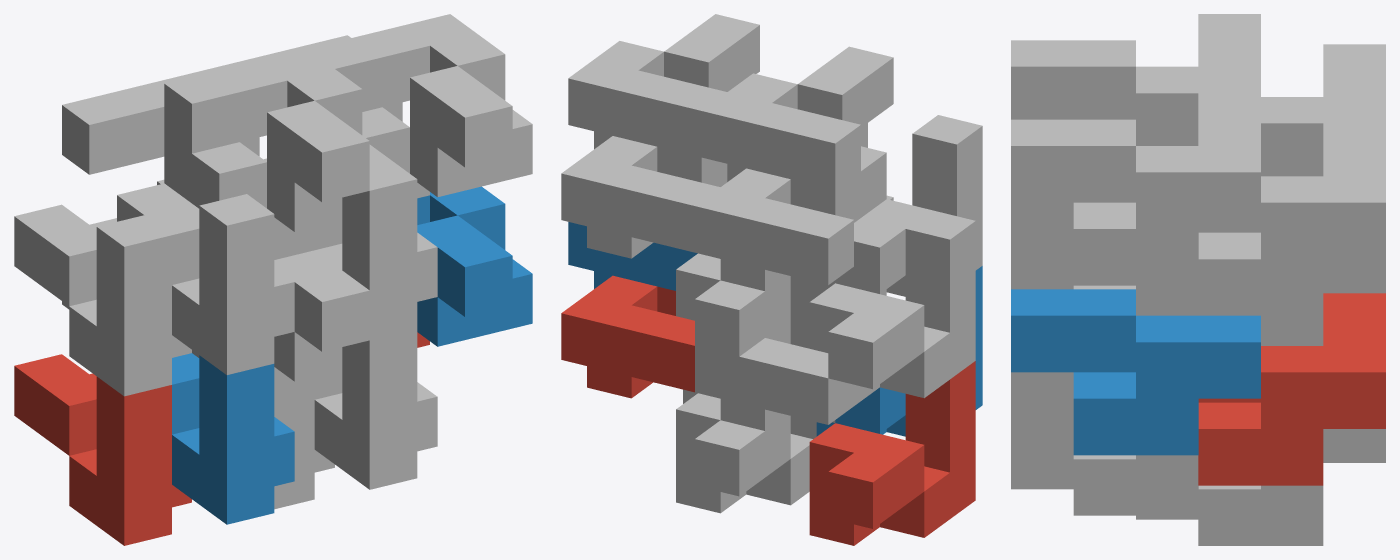
Rendered from tiling.obj.
The picture shows the model from 3 angles, left to right: view 1: azimuth 30°, elevation 25°; view 2: azimuth 150°, elevation 25°; view 3: azimuth 270°, elevation 25°; orthographic projection. The views are drawn at different scales.
Parts seen in each view (by area): view 1: copy_2_domain_4, copy_2_domain_8, copy_1_domain_3, copy_1_domain_1, copy_1_domain_4, copy_1_domain_2, copy_1_domain_6, copy_2_domain_6, copy_2_domain_3, copy_1_domain_8, copy_2_domain_2, copy_1_domain_5 (+2 smaller); view 2: copy_1_domain_3, copy_1_domain_1, copy_2_domain_4, copy_2_domain_3, copy_2_domain_8, copy_2_domain_7, copy_2_domain_5, copy_1_domain_5, copy_1_domain_4, copy_2_domain_1, copy_1_domain_7, copy_2_domain_6 (+2 smaller); view 3: copy_2_domain_8, copy_2_domain_6, copy_2_domain_5, copy_2_domain_7, copy_2_domain_4, copy_1_domain_6, copy_1_domain_5, copy_2_domain_3, copy_1_domain_8, copy_1_domain_7.
Boxes of the visible parts, box(x1,y1,x2,y2) form: copy_2_domain_4: box(164, 49, 389, 231); copy_2_domain_8: box(308, 14, 532, 197); copy_1_domain_3: box(14, 204, 191, 396); copy_1_domain_1: box(14, 354, 191, 545); copy_1_domain_4: box(117, 183, 294, 374); copy_1_domain_2: box(172, 353, 294, 524); copy_1_domain_6: box(314, 329, 437, 489); copy_2_domain_6: box(417, 186, 532, 346); copy_2_domain_3: box(62, 70, 266, 208); copy_1_domain_8: box(263, 158, 437, 340); copy_2_domain_2: box(274, 250, 369, 381); copy_1_domain_5: box(274, 367, 334, 509); copy_1_domain_3: box(809, 210, 975, 405); copy_1_domain_1: box(809, 361, 975, 545); copy_2_domain_4: box(701, 46, 893, 189); copy_2_domain_3: box(695, 146, 886, 290); copy_2_domain_8: box(568, 14, 759, 157); copy_2_domain_7: box(561, 136, 727, 258); copy_2_domain_5: box(561, 275, 694, 398); copy_1_domain_5: box(676, 393, 816, 513); copy_1_domain_4: box(835, 115, 982, 296); copy_2_domain_1: box(695, 292, 886, 430); copy_1_domain_7: box(676, 253, 790, 356); copy_2_domain_6: box(568, 222, 697, 290); copy_2_domain_8: box(1011, 93, 1260, 285); copy_2_domain_6: box(1011, 289, 1260, 455); copy_2_domain_5: box(1198, 293, 1385, 485); copy_2_domain_7: box(1198, 123, 1385, 315); copy_2_domain_4: box(1011, 14, 1260, 145); copy_1_domain_6: box(1011, 372, 1198, 515); copy_1_domain_5: box(1136, 429, 1385, 545); copy_2_domain_3: box(1261, 44, 1385, 176); copy_1_domain_8: box(1011, 202, 1198, 315); copy_1_domain_7: box(1261, 259, 1385, 345).
Size of the model in its own units: 8 by 8 by 6.
